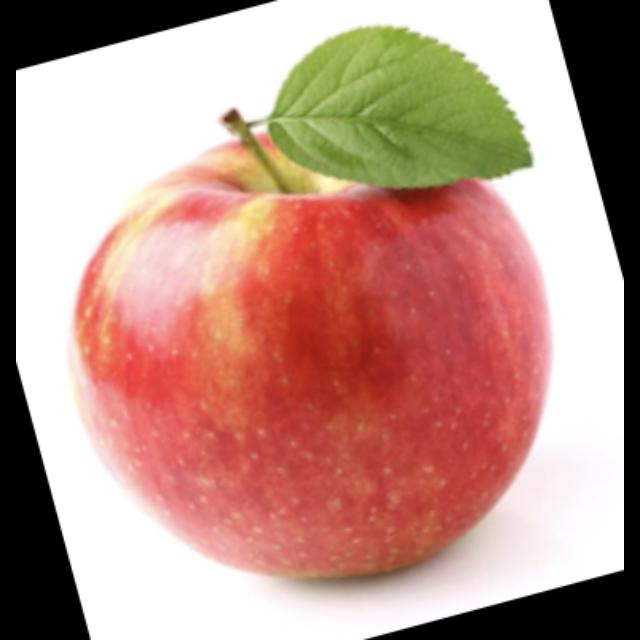Apel Segar: (75, 141, 550, 584)
